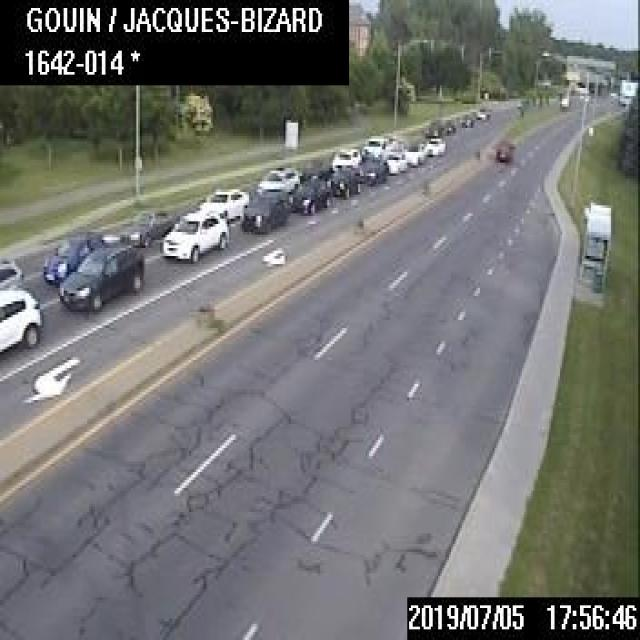vehicle: (57, 244, 143, 310), (161, 210, 228, 262), (42, 229, 105, 284), (0, 287, 40, 353), (118, 207, 178, 246), (241, 190, 288, 230), (195, 187, 248, 218), (286, 177, 328, 212), (255, 166, 298, 194), (325, 168, 359, 195), (357, 156, 387, 182), (330, 146, 360, 171), (0, 256, 22, 288), (360, 136, 385, 158), (299, 165, 331, 182), (384, 150, 406, 172), (402, 142, 423, 164), (424, 135, 445, 155), (494, 141, 514, 159), (423, 120, 441, 135), (473, 106, 489, 119), (458, 112, 472, 126), (441, 120, 454, 134)
